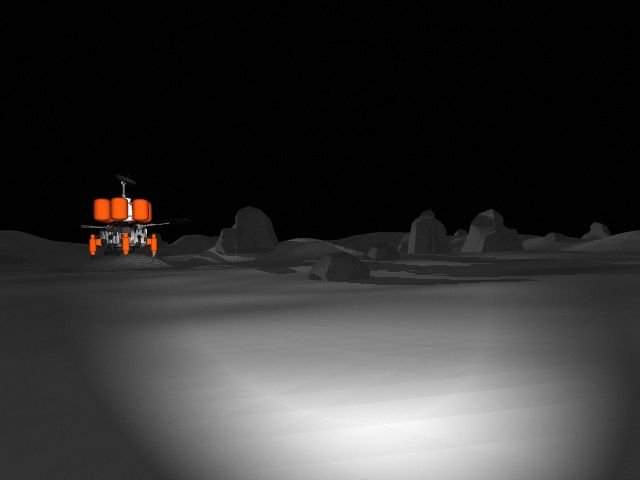homebase: (75, 170, 171, 260)
